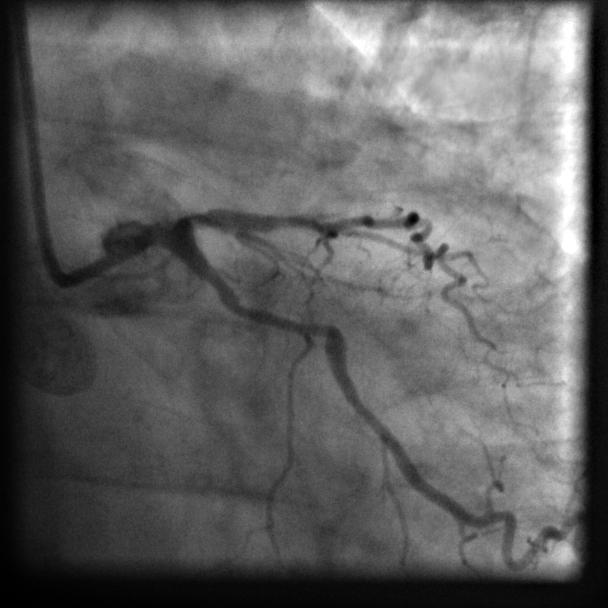Stenosis: (236, 293, 330, 344)
